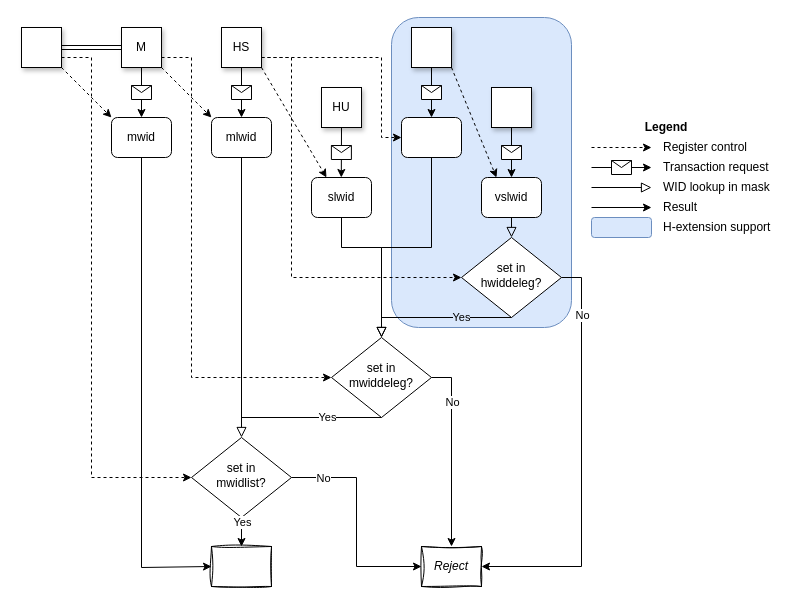
This 809x604 diagram has some shape labels left out. The shapes that lost their labels are listed below. From the top down, each one's centre as x and y in pixels, then its label:
pixel 42 48: RoT
pixel 432 48: VS
pixel 512 108: VU
pixel 431 137: hlwid
pixel 241 566: Accept
